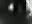person: (26, 1, 32, 19), (9, 4, 15, 13)
